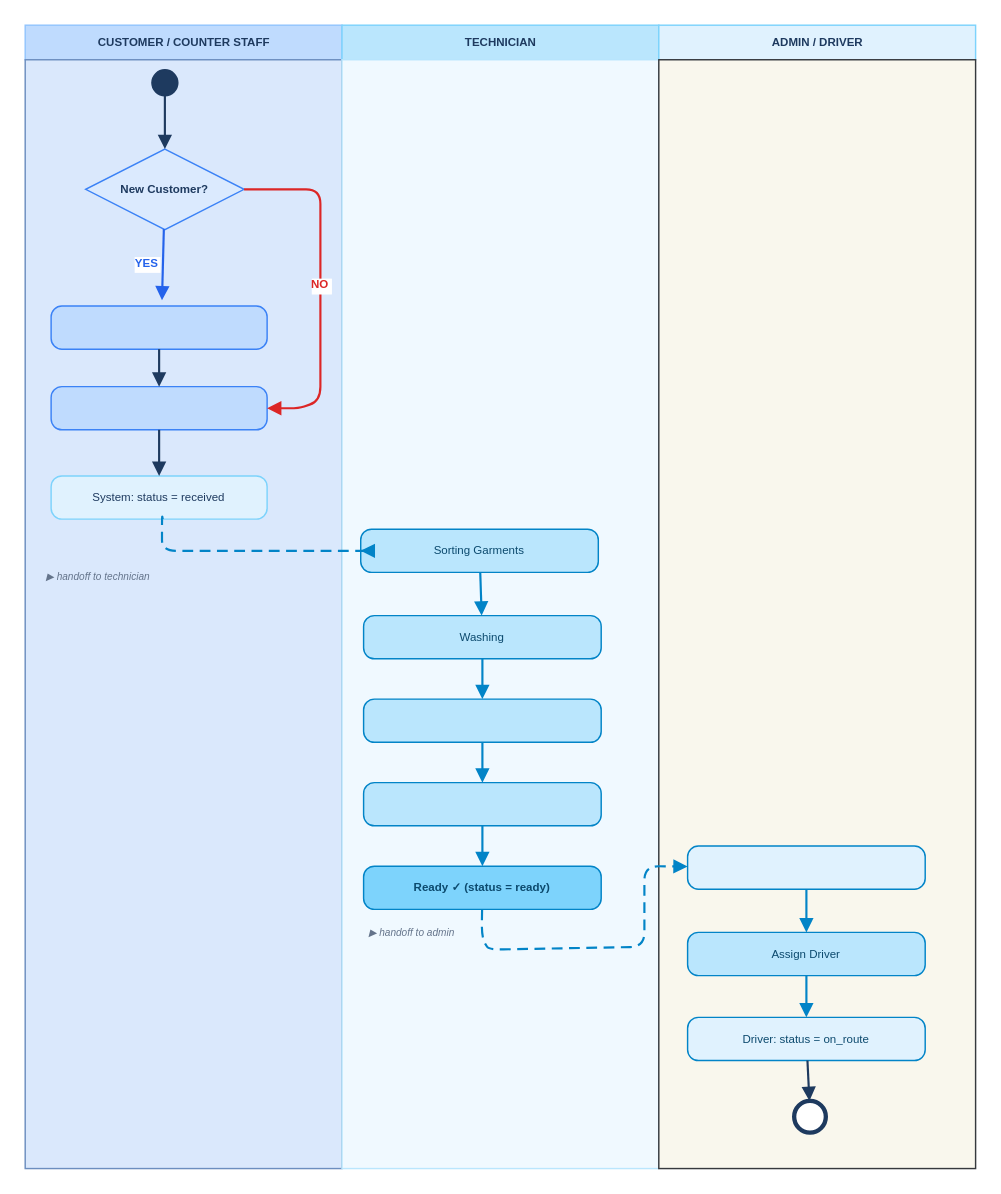
The diagram is 1001 pixels wide and 1194 high, and some of its shapes have lost their labels. Here are the shapes that lost their labels. From the top down, the box of each, then its label:
(50, 305, 267, 349): Register New Customer
(50, 385, 267, 430): Create Order (customer_id + amount)
(362, 698, 601, 742): Drying
(362, 781, 601, 826): Ironing
(686, 845, 925, 889): Record Payment (cash/mobile/card)
